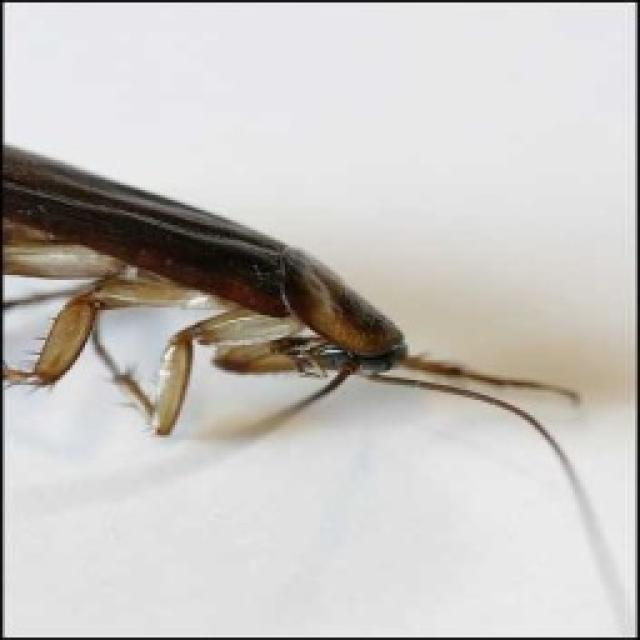cockroach: (0, 135, 455, 476)
